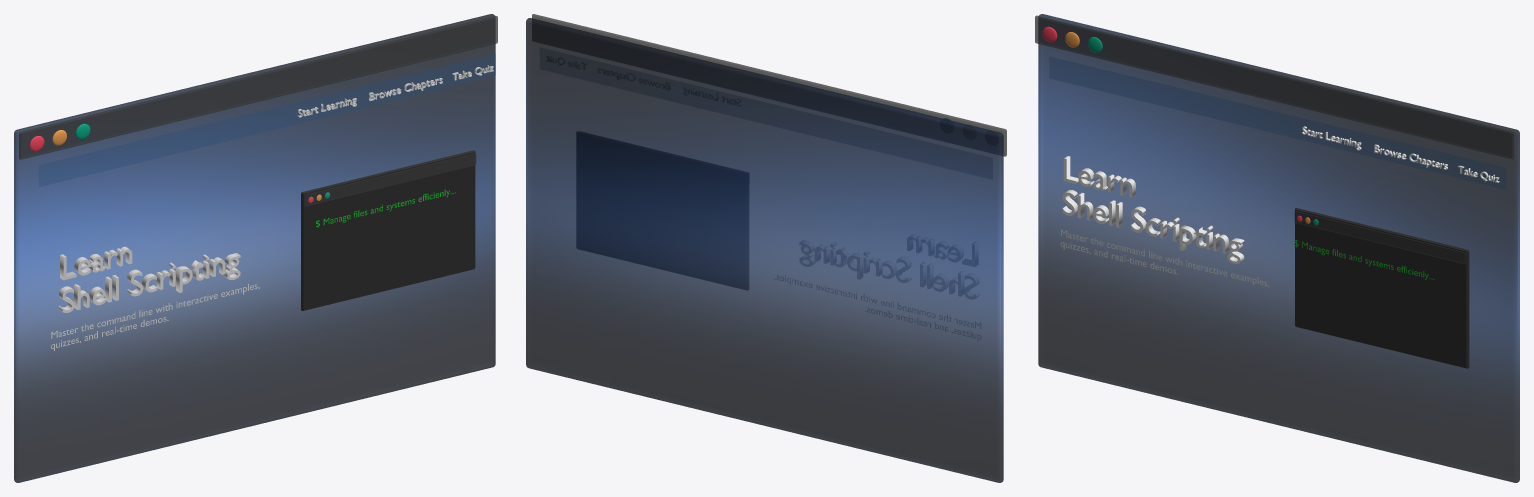
The model's file is ShellScriptWeb2.glb.
The picture shows the model from 3 angles, left to right: view 1: azimuth 30°, elevation 25°; view 2: azimuth 150°, elevation 25°; view 3: azimuth 330°, elevation 25°; orthographic projection.
Parts seen in each view (by area): view 1: Plane, Plane.002, Plane.001, Plane.004, Text, Plane.003, Text.001; view 2: Plane, Plane.002, Text, Plane.001; view 3: Plane, Plane.002, Plane.001, Plane.004, Text, Plane.003, Text.001.
Part boxes in pixels (x1=…): Plane: x1=14, y1=14, x2=495, y2=482; Plane.002: x1=301, y1=150, x2=475, y2=310; Plane.001: x1=19, y1=16, x2=497, y2=159; Plane.004: x1=39, y1=54, x2=495, y2=186; Text: x1=59, y1=246, x2=240, y2=312; Plane.003: x1=304, y1=153, x2=476, y2=206; Text.001: x1=51, y1=283, x2=259, y2=350; Plane: x1=526, y1=18, x2=1003, y2=482; Plane.002: x1=577, y1=132, x2=748, y2=289; Text: x1=800, y1=234, x2=978, y2=298; Plane.001: x1=532, y1=14, x2=1006, y2=156; Plane: x1=1038, y1=14, x2=1519, y2=482; Plane.002: x1=1295, y1=208, x2=1469, y2=368; Plane.001: x1=1035, y1=15, x2=1513, y2=159; Plane.004: x1=1049, y1=56, x2=1505, y2=189; Text: x1=1062, y1=155, x2=1244, y2=263; Plane.003: x1=1294, y1=211, x2=1466, y2=264; Text.001: x1=1060, y1=229, x2=1269, y2=287.
Bounding box in the file's own units: 5.07 × 3.56 × 0.4515.
Materials: 13 (1 with a texture image).
